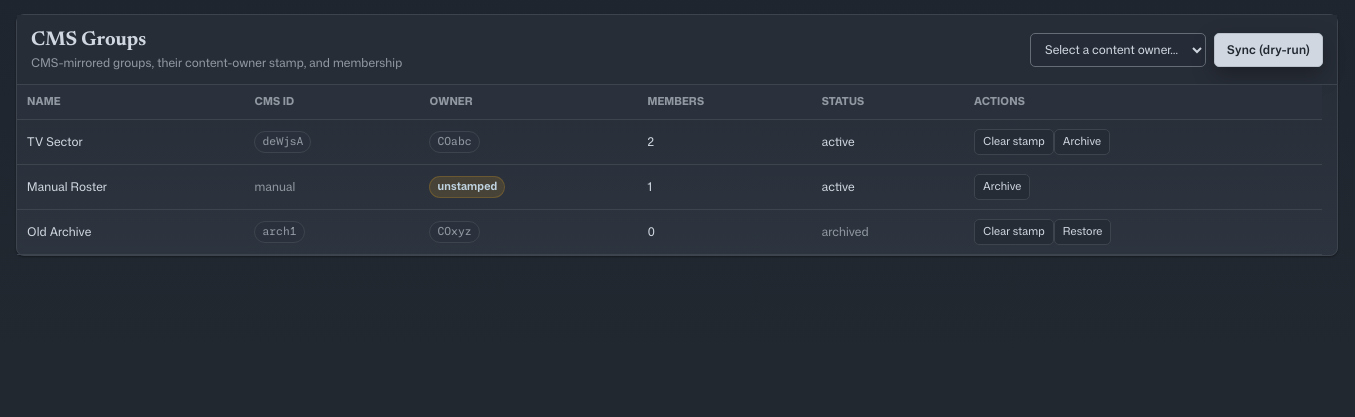
Test: GroupsView clear-stamp flow › opens a confirm panel, blocks a blank reason, then DELETEs the stamp and refetches
Expected: the text "TV Sector" is shown, [17,119,244,164]
Click the button "Clear stamp" in the row of "TV Sector" at (1014, 142), box [974,129,1054,155]
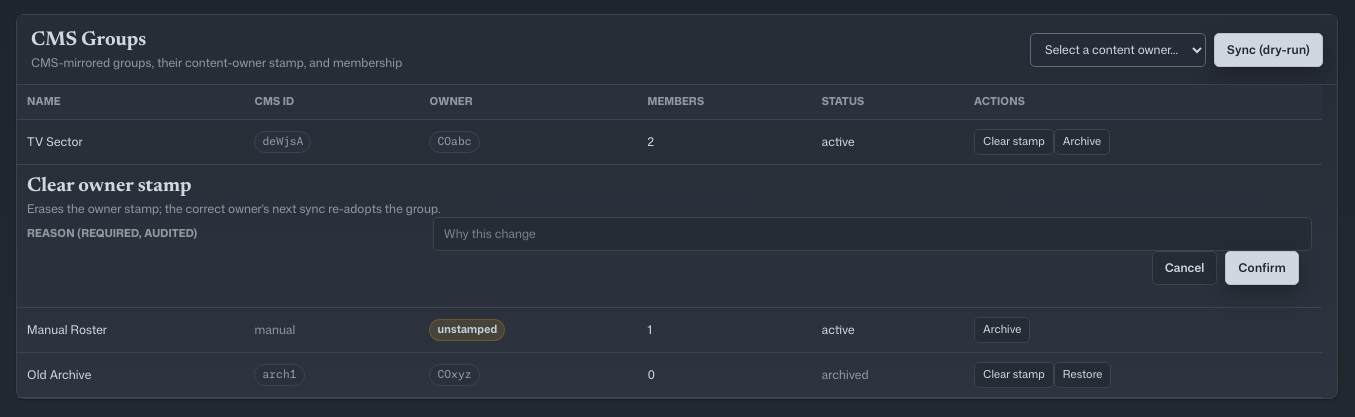
Expected: the text "Erases the owner stamp" is shown, [27,200,440,217]
Expected: the button "Cancel" is shown, [1152,251,1217,285]
Expected: the button "Confirm" is disabled, [1225,251,1299,285]
// A reason WITH spaces is valid (only blank / NUL are rejected).
Type "wrong owner stamp" into the field labelled "Reason (required, audited)" at (872, 234), box [433,217,1312,251]
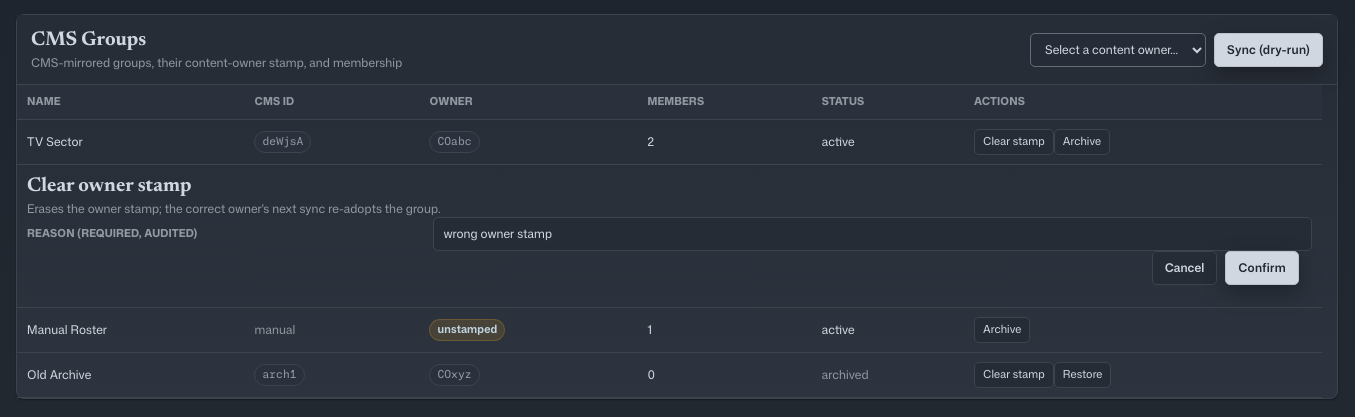
Click the button "Confirm" at (1262, 268), box [1225,251,1299,285]
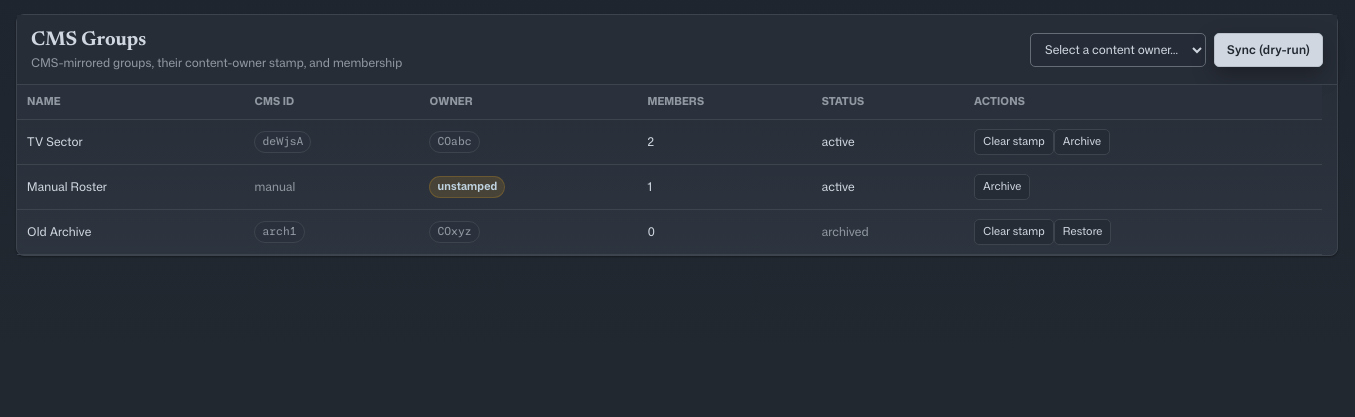
Expected: the label labelled "Reason (required, audited)" is gone
